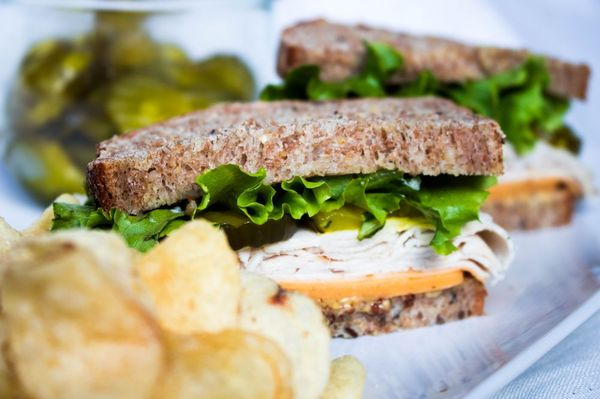soup: (79, 93, 514, 338), (260, 17, 590, 158)
